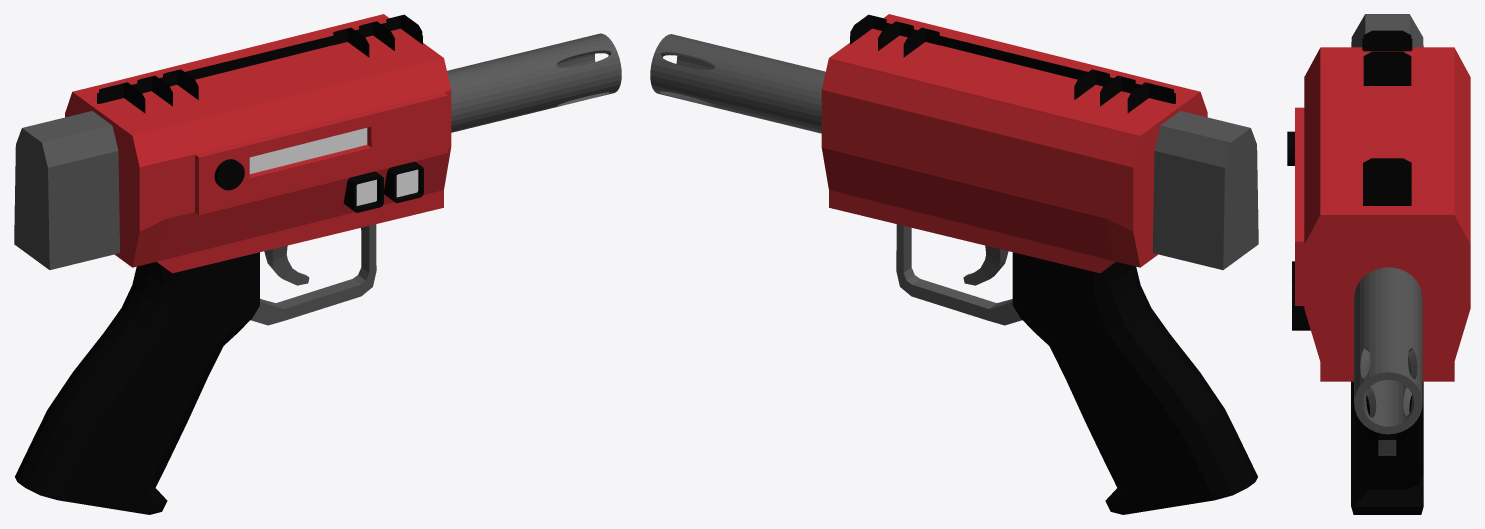
Rendered from Pistol.fbx.
The picture shows the model from 3 angles, left to right: view 1: azimuth 30°, elevation 25°; view 2: azimuth 150°, elevation 25°; view 3: azimuth 270°, elevation 25°; orthographic projection. The views are drawn at different scales.
Parts seen in each view (by area): view 1: Grip; view 2: Grip; view 3: Grip.
Part boxes in pixels (x1,y1,x2,y2): Grip: [14, 14, 621, 514]; Grip: [650, 14, 1258, 514]; Grip: [1287, 14, 1470, 514].
Bounding box in the file's own units: 147 × 99.63 × 35.63.
